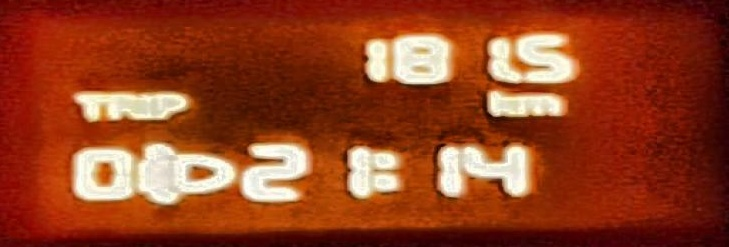-: (508, 67, 522, 83)
0: (68, 146, 135, 201)
1: (430, 143, 462, 197), (341, 144, 371, 199), (359, 37, 391, 82), (483, 35, 509, 81)
2: (237, 141, 310, 202)
4: (462, 142, 531, 197)
5: (513, 32, 574, 83)
8: (391, 32, 453, 84)
X: (369, 148, 402, 191), (515, 91, 565, 116), (68, 90, 106, 122), (152, 90, 190, 120), (105, 90, 137, 121), (483, 88, 516, 117), (136, 89, 155, 120)
